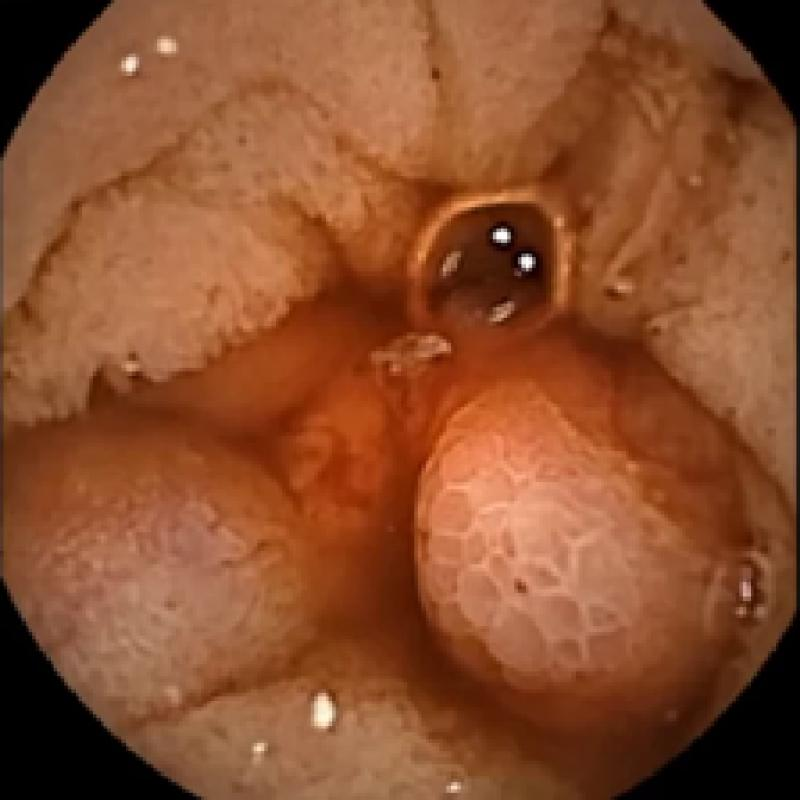bleeding: (222, 182, 682, 554)
